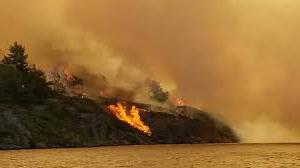fire: (107, 98, 154, 138)
